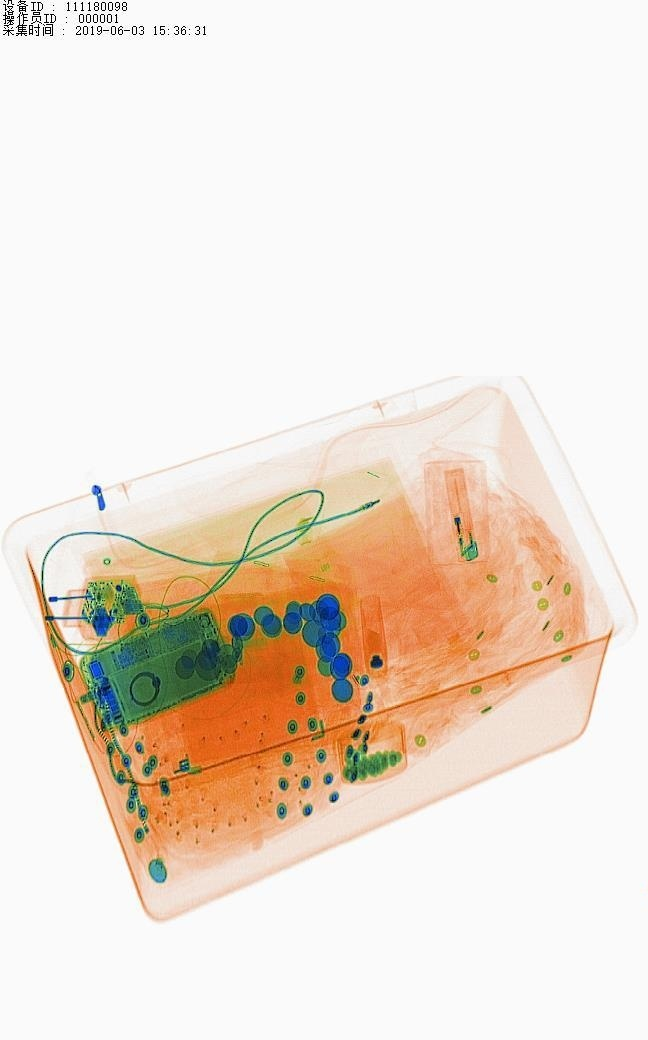NonmetallicFire: (439, 456, 499, 571)
